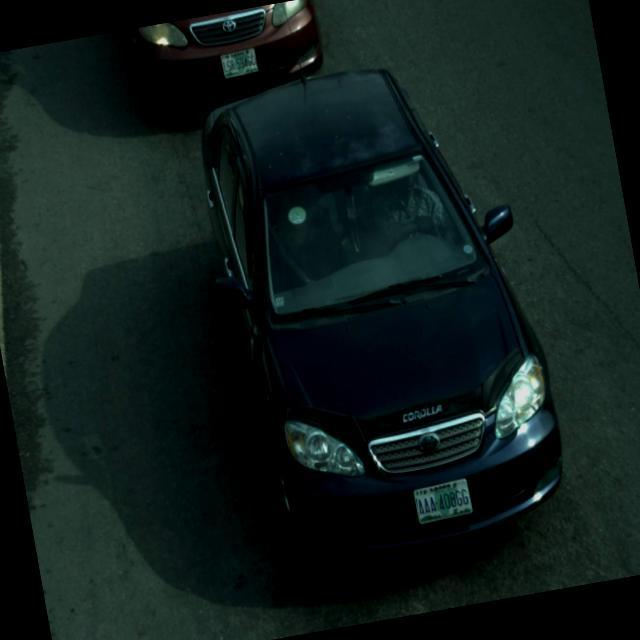windshield: (250, 147, 510, 327)
